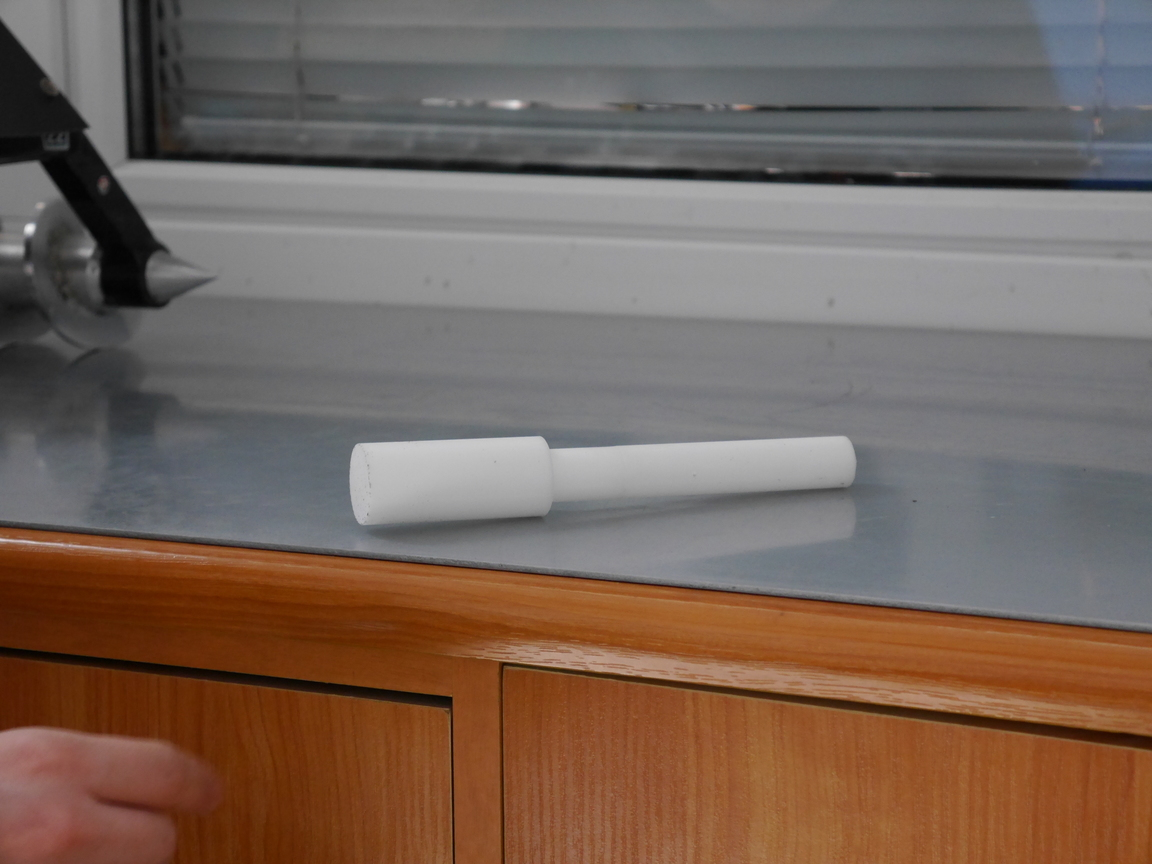cargo_g: (347, 436, 861, 526)
